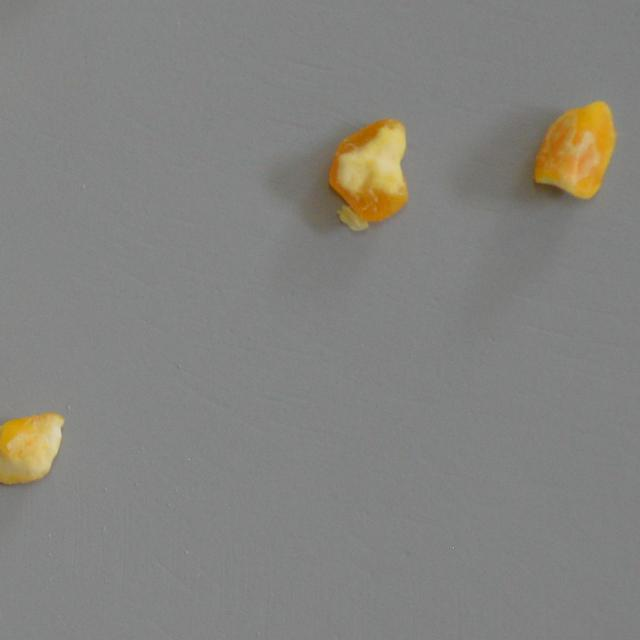pelicula: (327, 116, 410, 222), (530, 100, 616, 200), (0, 412, 63, 485)
